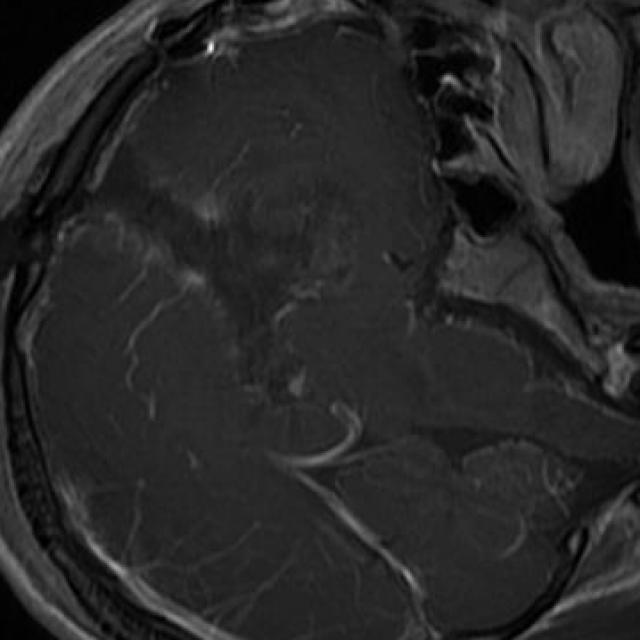glioma: (96, 146, 349, 403)
